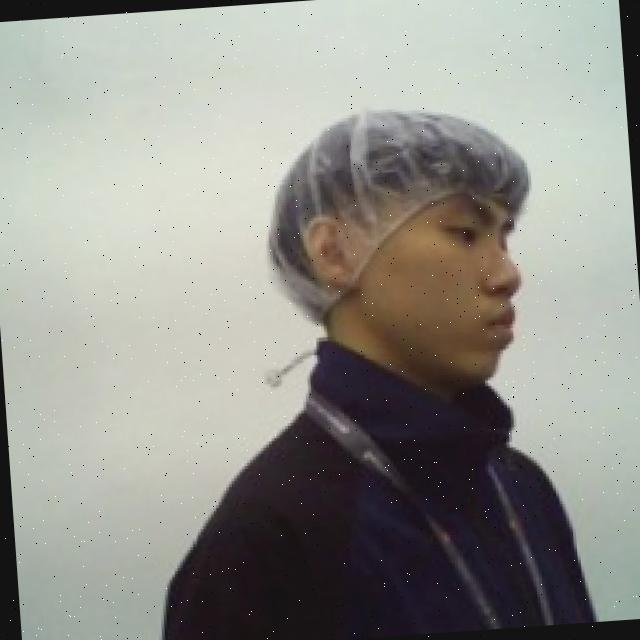gloves: (253, 95, 548, 332)
no_hairnet: (300, 190, 534, 398)
